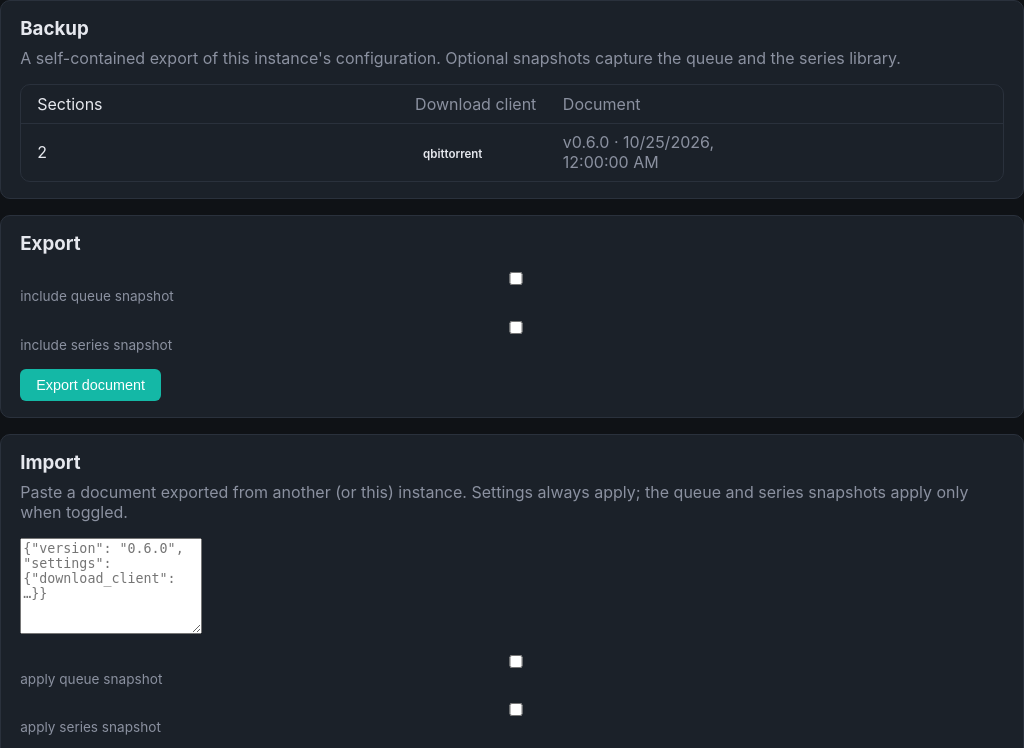
it: BackupPanel › exports with the snapshot toggles it passes to the client
This screenshot has width=1024, height=748.
Expected: the element with test id "backup-summary" is shown, [20,84,1004,182]
Click the checkbox with test id "backup-include-queue" at (516, 278), box [24,272,1008,285]
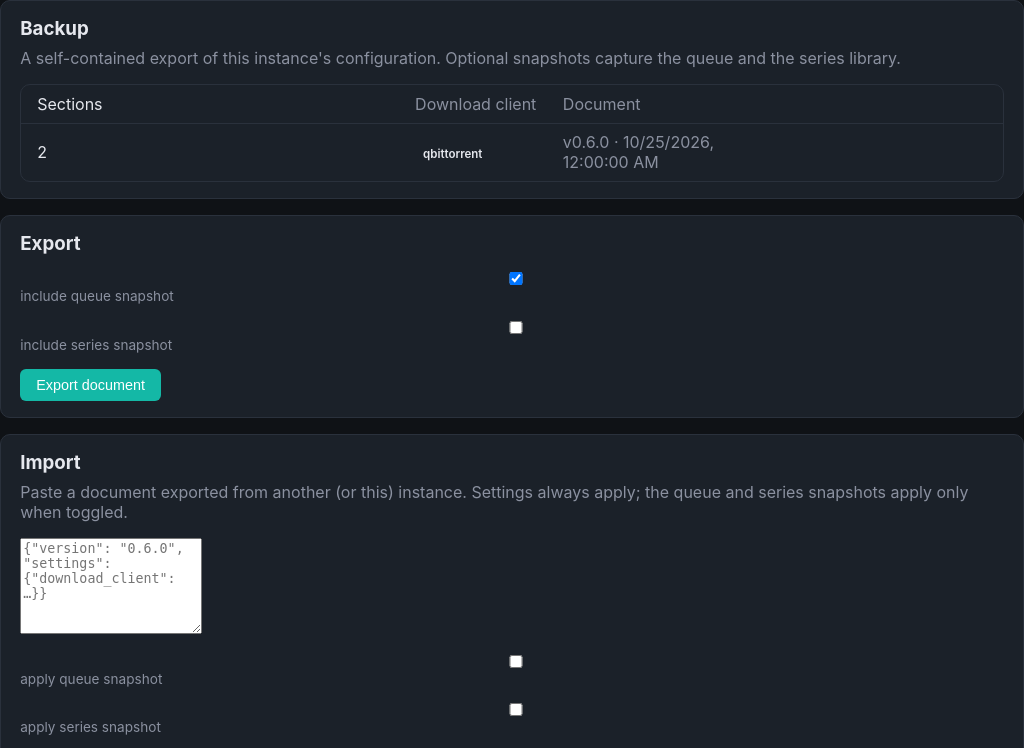
Click the button with test id "backup-export-btn" at (91, 385), box [20,369,161,401]
(page scrolled)
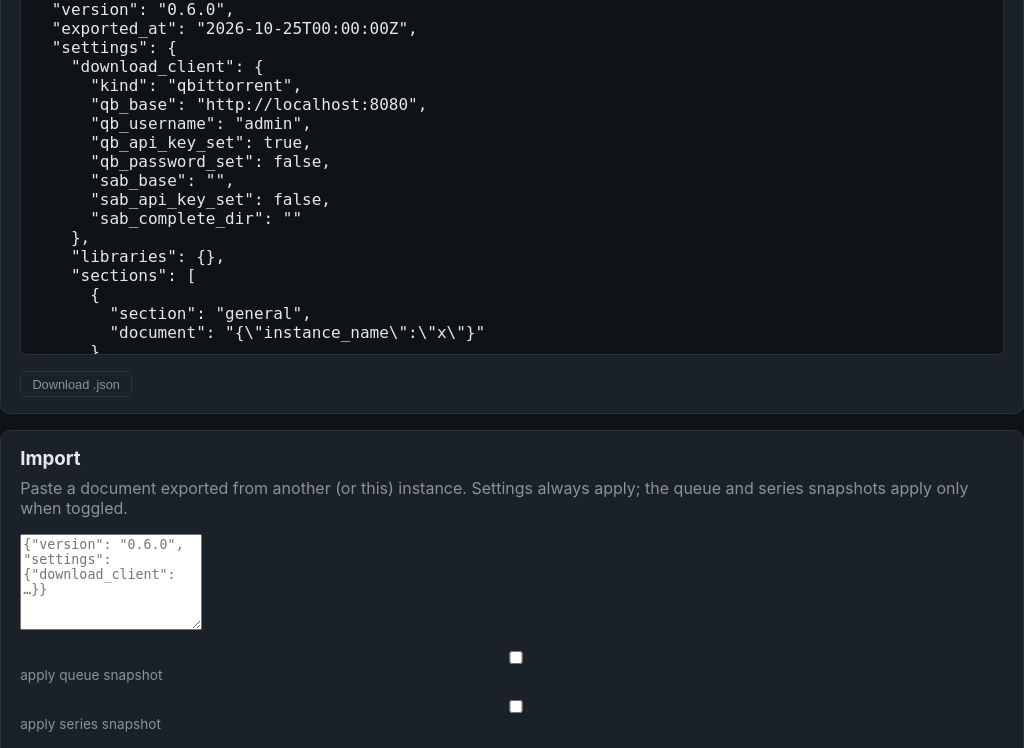
Expected: the button with test id "backup-download-btn" is shown, [20,371,132,397]
